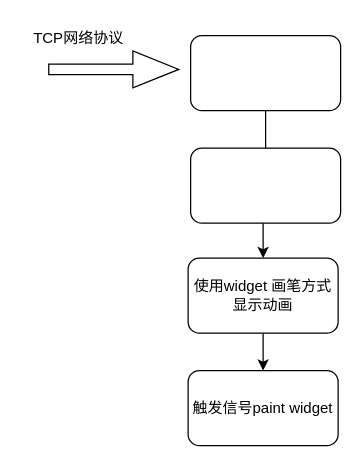
Some shapes in this 363 by 468 pixel diagram are drawn without their labels. The shapes that lost their labels are listed below. From the top down, each one's box as (x1, y1, x2, y2) in pixels, then its label:
(189, 34, 341, 111): Qrhread的video线程tcp接收
(189, 147, 341, 223): 调用FFMPEG库解码H264
